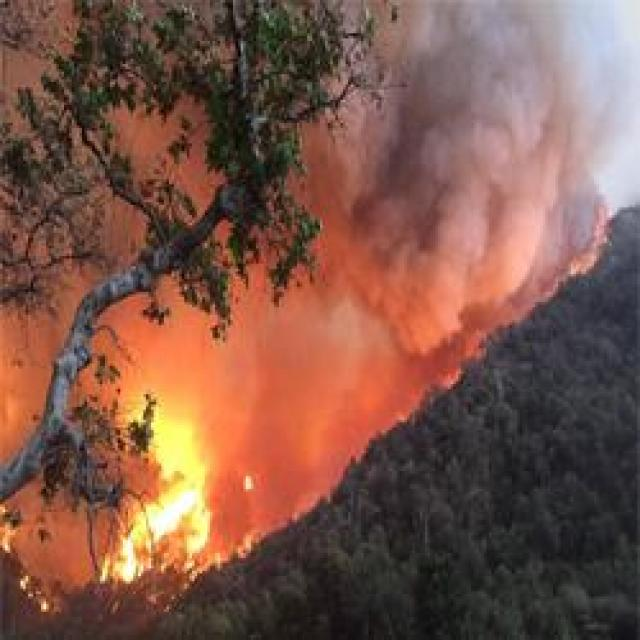fire: (127, 409, 210, 567)
smoke: (410, 132, 586, 330), (413, 0, 584, 155), (314, 135, 442, 292), (334, 306, 434, 378)
